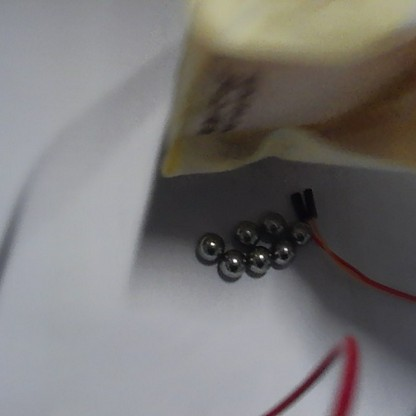ironball: (259, 212, 286, 240), (231, 220, 257, 247), (198, 233, 223, 261), (219, 250, 245, 276), (245, 246, 269, 271), (271, 242, 293, 266), (289, 220, 311, 243)
